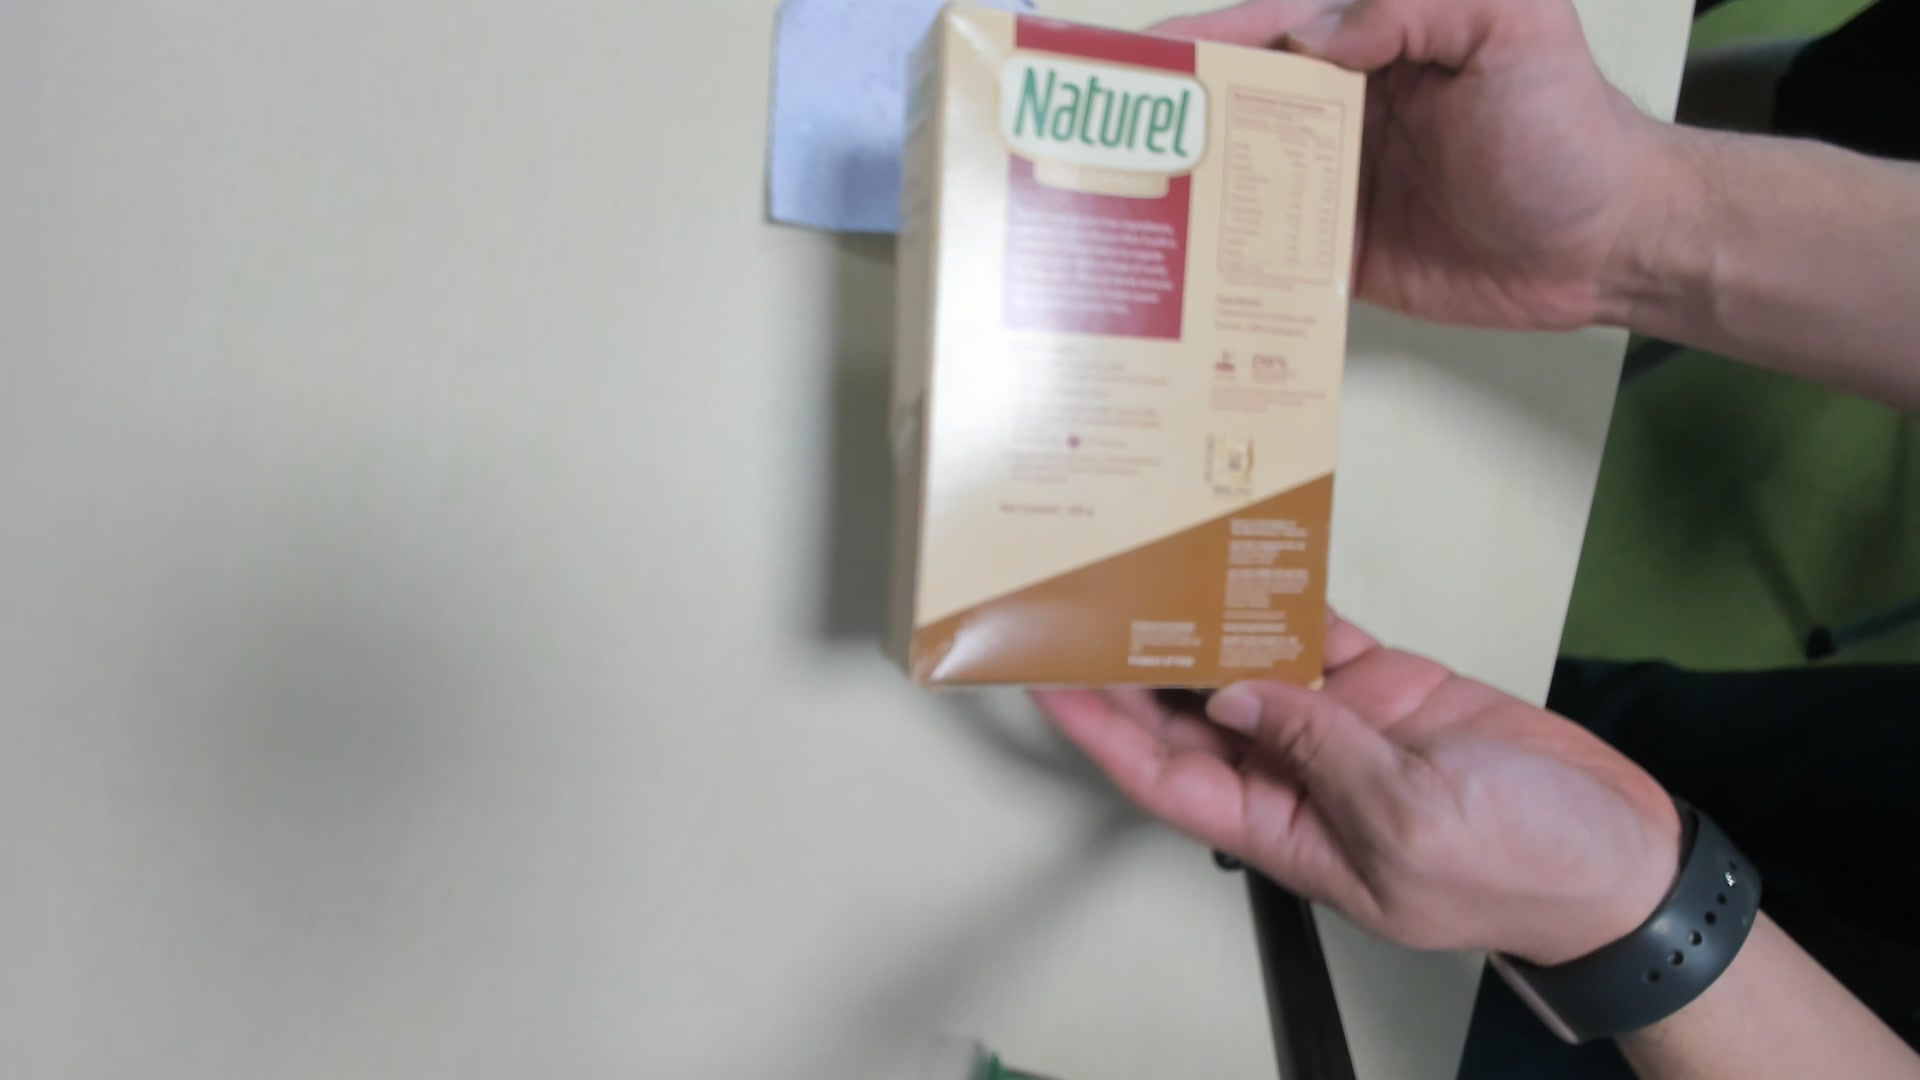Pasta_200-299g_Halal_Healthy: (889, 3, 1369, 683)
